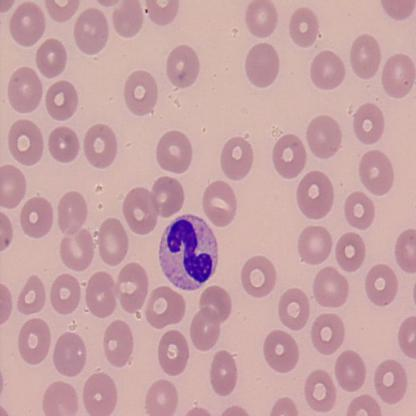Band Neutrophil: (157, 212, 221, 294)
